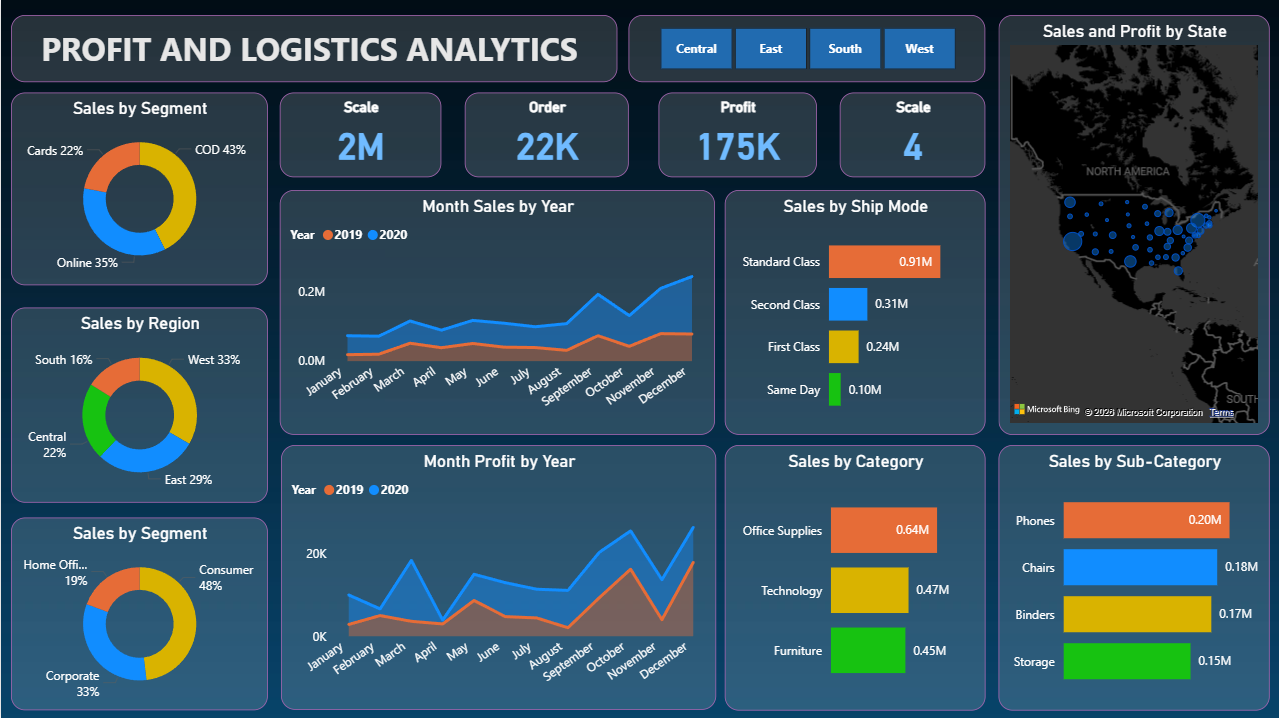

This screenshot's page, from the dashboard's own definition file:
{"tool":"powerbi","page":{"name":"Page 1","canvas":[1280,720],"ordinal":0},"visuals":[{"type":"clusteredBarChart","title":" Sales by Category","fields":{"Category":["SuperStore_Sales_Dataset.Category"],"Y":["Sum(SuperStore_Sales_Dataset.Sales)"]},"box":[723.9,445.2,260.6,265.4],"z":0},{"type":"clusteredBarChart","title":" Sales by Sub-Category","fields":{"Category":["SuperStore_Sales_Dataset.Sub-Category"],"Y":["Sum(SuperStore_Sales_Dataset.Sales)"]},"box":[997.7,445.2,271.4,265.4],"z":1000},{"type":"stackedAreaChart","title":"Month Sales by Year","fields":{"Y":["Sum(SuperStore_Sales_Dataset.Sales)"],"Category":["SuperStore_Sales_Dataset.Order Date.Variation.Date Hierarchy.Month","SuperStore_Sales_Dataset.Order Date.Variation.Date Hierarchy.Day"],"Series":["SuperStore_Sales_Dataset.Order Date.Variation.Date Hierarchy.Year"]},"box":[278.7,189.4,435.5,244.9],"z":2000},{"type":"slicer","fields":{"Values":["SuperStore_Sales_Dataset.Region"]},"box":[627.3,14.5,357.1,67.6],"z":3000},{"type":"clusteredBarChart","title":" Sales by Ship Mode","fields":{"Y":["Sum(SuperStore_Sales_Dataset.Sales)"],"Category":["SuperStore_Sales_Dataset.Ship Mode"]},"box":[723.9,189.4,260.6,244.9],"z":4000},{"type":"textbox","box":[9.8,14.7,606.1,67.5],"z":5000},{"type":"card","title":"Scale","fields":{"Values":["Sum(SuperStore_Sales_Dataset.Sales)"]},"box":[278.7,92.9,161.7,84.5],"z":6000},{"type":"card","title":"Order","fields":{"Values":["Sum(SuperStore_Sales_Dataset.Quantity)"]},"box":[463.3,92.9,164.1,84.5],"z":7000},{"type":"card","title":"Profit","fields":{"Values":["Sum(SuperStore_Sales_Dataset.Profit)"]},"box":[657.5,92.9,158,84.5],"z":8000},{"type":"card","title":"Scale","fields":{"Values":["Avg(SuperStore_Sales_Dataset.AvgDelivery)"]},"box":[838.5,92.9,146,84.5],"z":9000},{"type":"donutChart","title":" Sales by Segment","fields":{"Category":["SuperStore_Sales_Dataset.Segment"],"Y":["Sum(SuperStore_Sales_Dataset.Sales)"]},"box":[9.7,517.6,257,193],"z":10000},{"type":"donutChart","title":"Sales by Region","fields":{"Y":["Sum(SuperStore_Sales_Dataset.Sales)"],"Category":["SuperStore_Sales_Dataset.Region"]},"box":[9.7,307.6,257,195.4],"z":11000},{"type":"donutChart","title":" Sales by Segment","fields":{"Y":["Sum(SuperStore_Sales_Dataset.Sales)"],"Category":["SuperStore_Sales_Dataset.Payment Mode"]},"box":[9.7,92.9,257,193],"z":12000},{"type":"stackedAreaChart","title":"Month Profit by Year","fields":{"Y":["Sum(SuperStore_Sales_Dataset.Profit)"],"Category":["SuperStore_Sales_Dataset.Order Date.Variation.Date Hierarchy.Month","SuperStore_Sales_Dataset.Order Date.Variation.Date Hierarchy.Day"],"Series":["SuperStore_Sales_Dataset.Order Date.Variation.Date Hierarchy.Year"]},"box":[279.8,445.4,435.6,265],"z":13000},{"type":"map","title":"Sales and Profit by State","fields":{"Category":["SuperStore_Sales_Dataset.State"],"Size":["Sum(SuperStore_Sales_Dataset.Sales)"]},"box":[997.6,14.7,271.2,419.6],"z":14001}]}

Visuals, with their boxes in screenshot pixels (x1, y1, x2, y2), scaled from the page's 1280x720 canvas onto the 1279x718 screenshot:
" Sales by Category" clusteredBarChart: <region>723, 444, 984, 709</region>
" Sales by Sub-Category" clusteredBarChart: <region>997, 444, 1268, 709</region>
"Month Sales by Year" stackedAreaChart: <region>278, 189, 714, 433</region>
slicer - SuperStore_Sales_Dataset.Region: <region>627, 14, 984, 82</region>
" Sales by Ship Mode" clusteredBarChart: <region>723, 189, 984, 433</region>
textbox: <region>10, 15, 615, 82</region>
"Scale" card: <region>278, 93, 440, 177</region>
"Order" card: <region>463, 93, 627, 177</region>
"Profit" card: <region>657, 93, 815, 177</region>
"Scale" card: <region>838, 93, 984, 177</region>
" Sales by Segment" donutChart: <region>10, 516, 266, 709</region>
"Sales by Region" donutChart: <region>10, 307, 266, 502</region>
" Sales by Segment" donutChart: <region>10, 93, 266, 285</region>
"Month Profit by Year" stackedAreaChart: <region>280, 444, 715, 708</region>
"Sales and Profit by State" map: <region>997, 15, 1268, 433</region>
